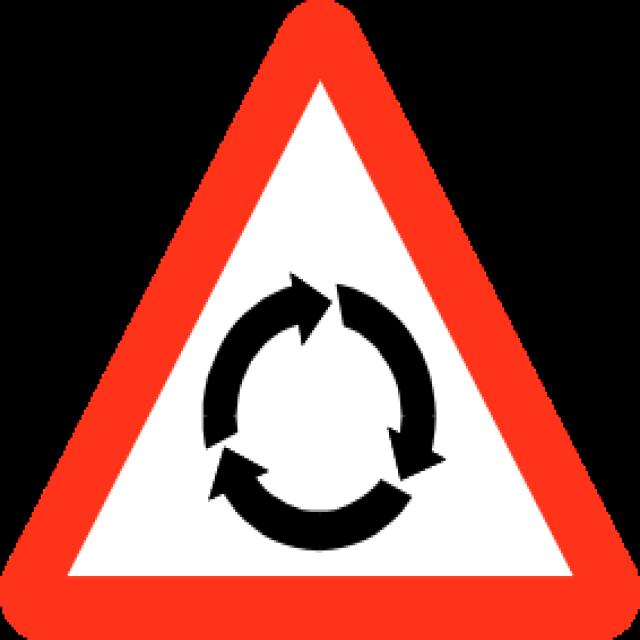SensGiratoire: (1, 0, 640, 637)
